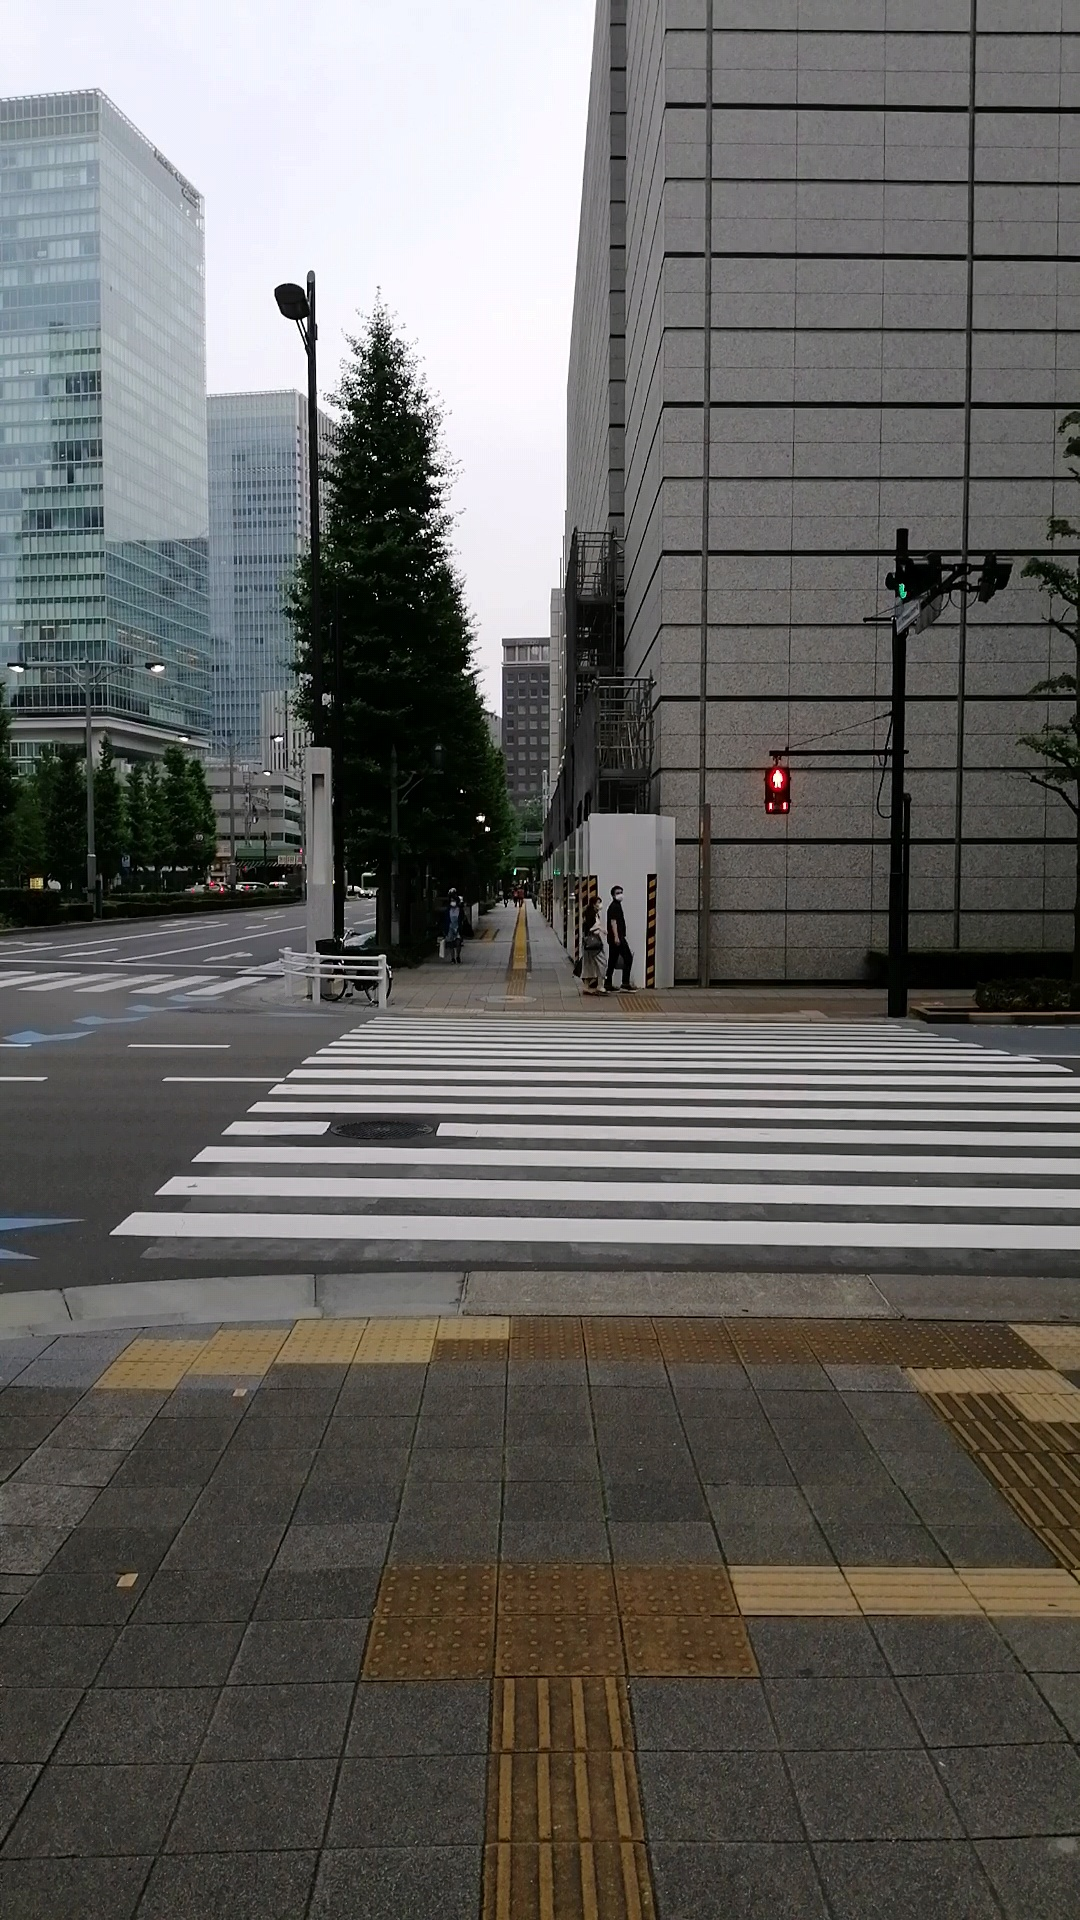red: (761, 762, 793, 816)
